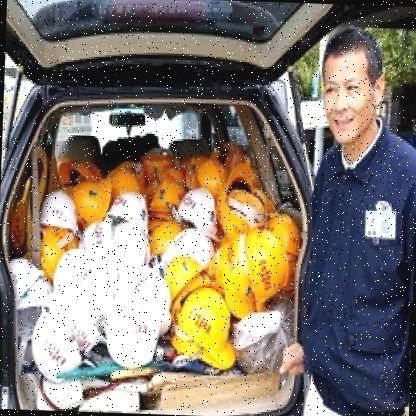sem_capacete: (318, 26, 389, 150)
sem_colete_refletivo: (297, 119, 415, 406)
